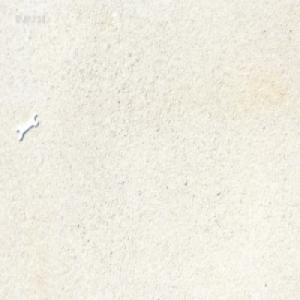Wrench: (17, 109, 40, 140)
